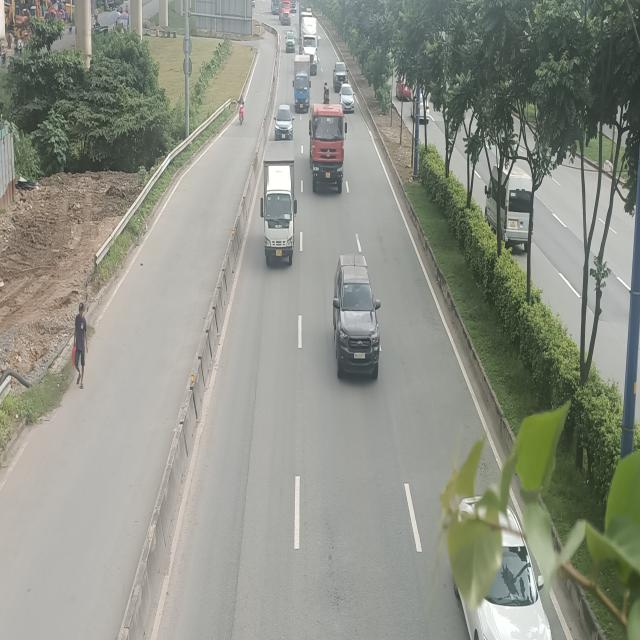car: (332, 254, 380, 376), (274, 104, 294, 139), (333, 62, 349, 93), (339, 84, 355, 113)
container: (299, 16, 319, 74), (279, 0, 291, 25)
truck: (260, 140, 298, 266), (310, 104, 347, 192), (292, 54, 310, 112)
